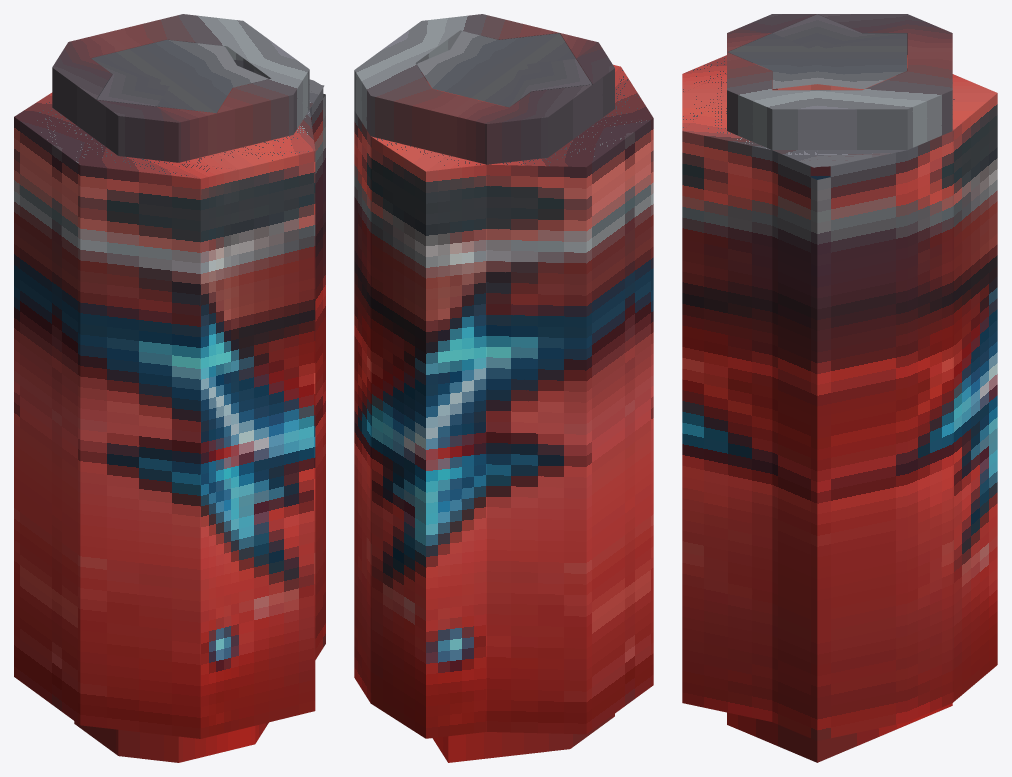
File: amp.obj
The picture shows the model from 3 angles, left to right: view 1: azimuth 30°, elevation 25°; view 2: azimuth 150°, elevation 25°; view 3: azimuth 270°, elevation 25°; orthographic projection. The views are drawn at different scales.
Size of the model in its own units: 0.1189 by 0.2719 by 0.1189.
